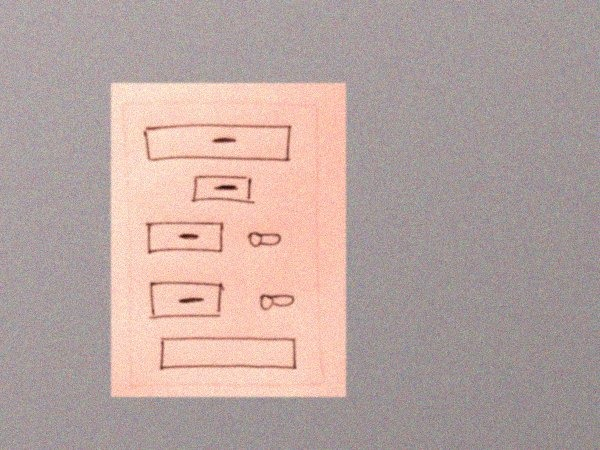button: (140, 122, 294, 165), (147, 280, 225, 321), (144, 219, 227, 257), (187, 173, 258, 208)
switch: (256, 288, 296, 315), (247, 228, 284, 253)
text_input: (157, 333, 301, 376)
